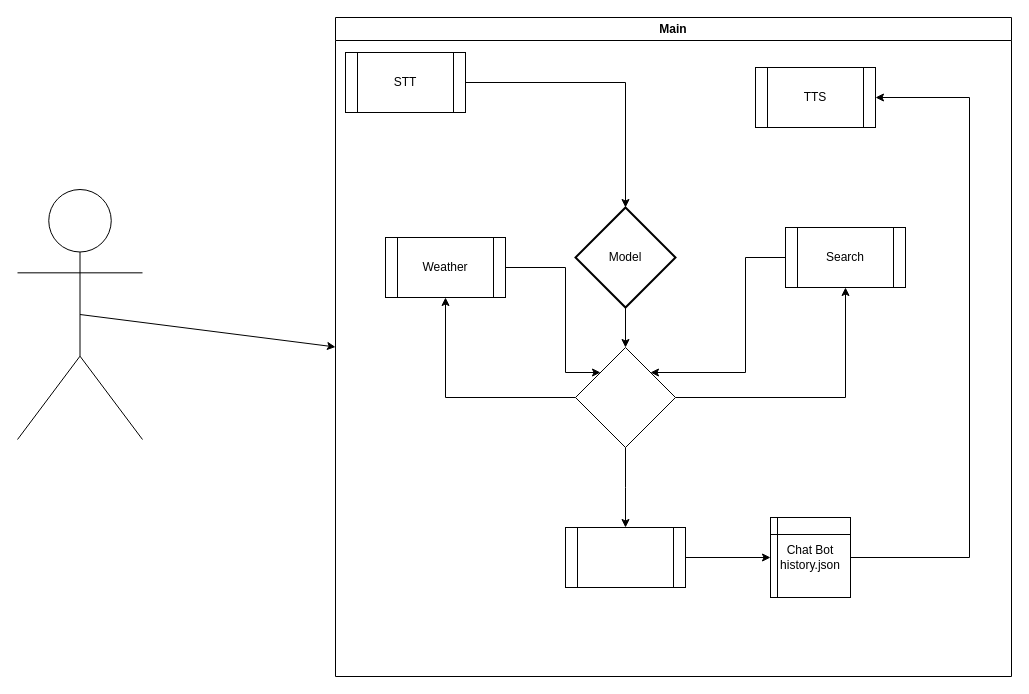
Some shapes in this 1029 by 694 pixel diagram are drawn without their labels. The box of each missing label's shape, as (x1, y1, x2, y2) in pixels:
Actor: (16, 188, 142, 440)
ChatBot: (564, 526, 686, 588)
ChatBot Real Time Data: (574, 346, 676, 448)
